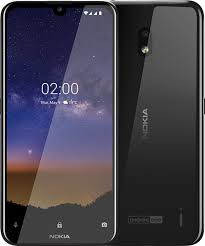nokia: (1, 1, 119, 245), (112, 1, 205, 245)
